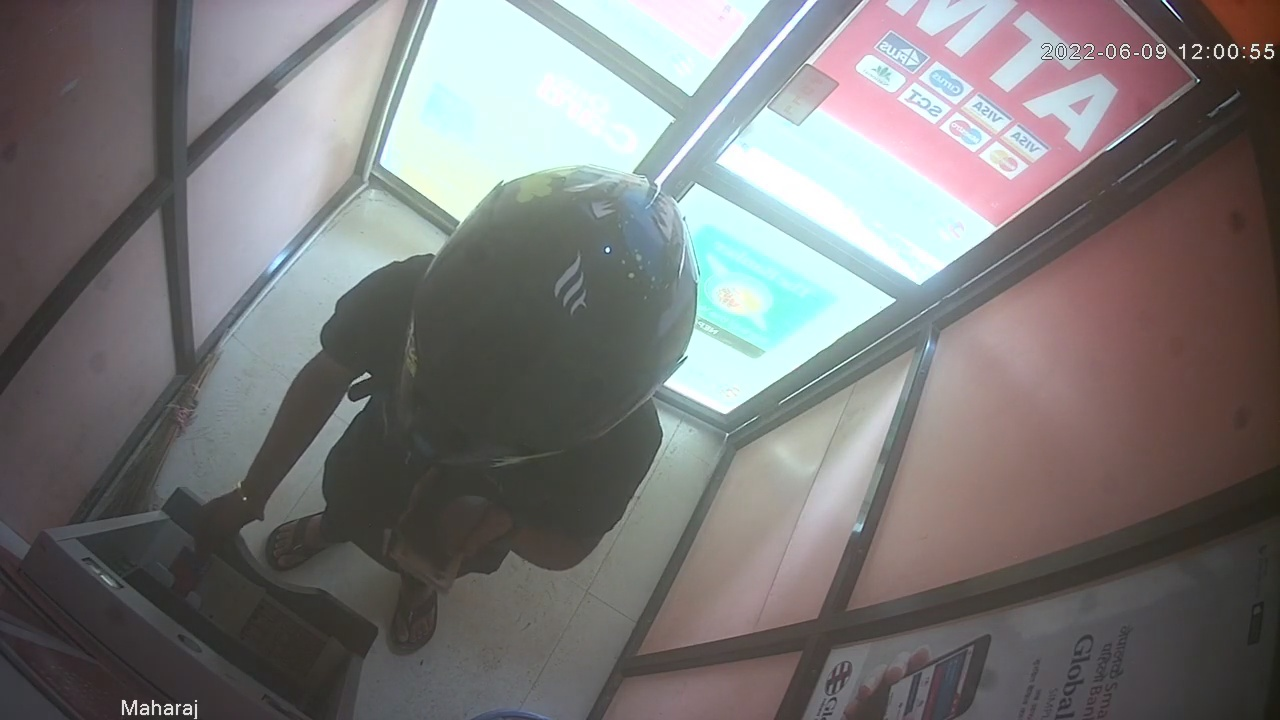helmet: (394, 164, 695, 477)
person: (193, 164, 699, 656)
